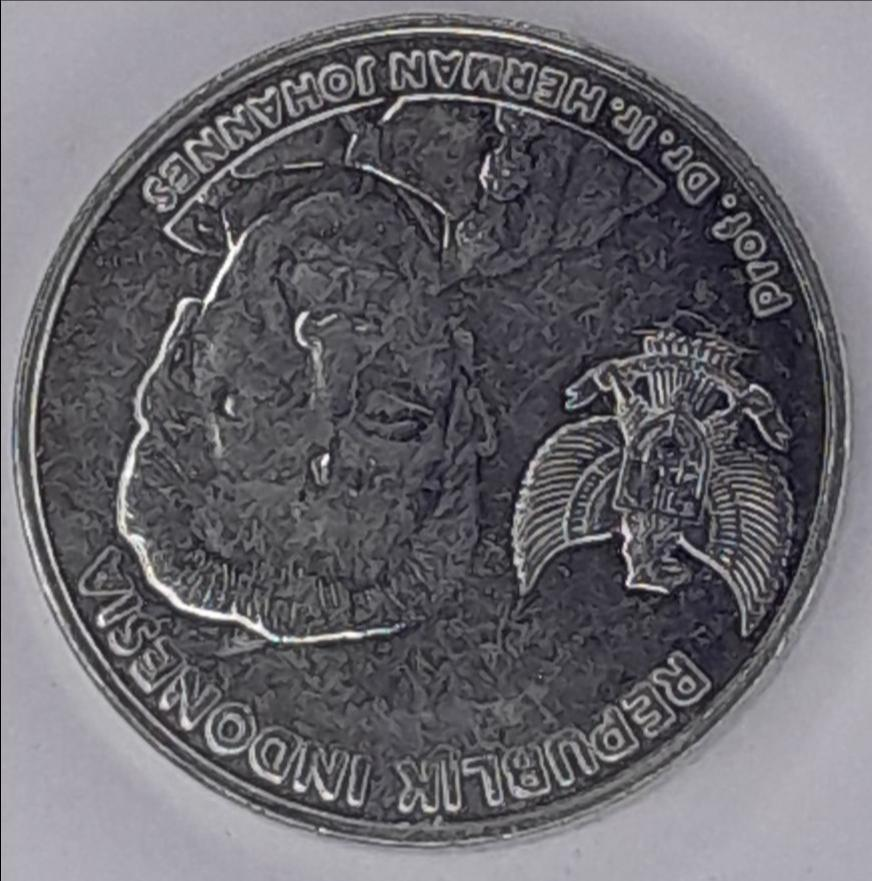coin_100_e2016: (9, 6, 854, 850)
